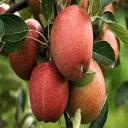apple: (8, 18, 46, 82)
